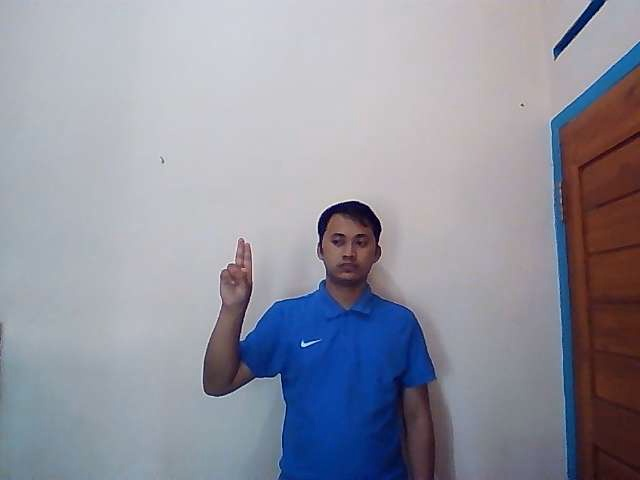U: (218, 238, 254, 305)
